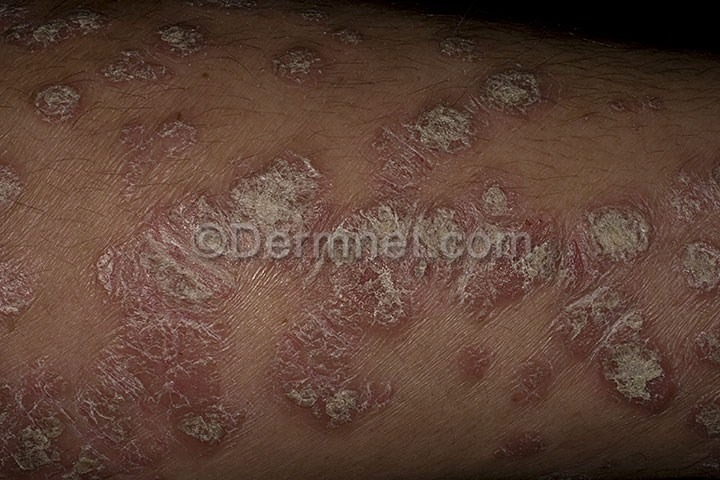Psoriasis: (12, 15, 705, 462)
